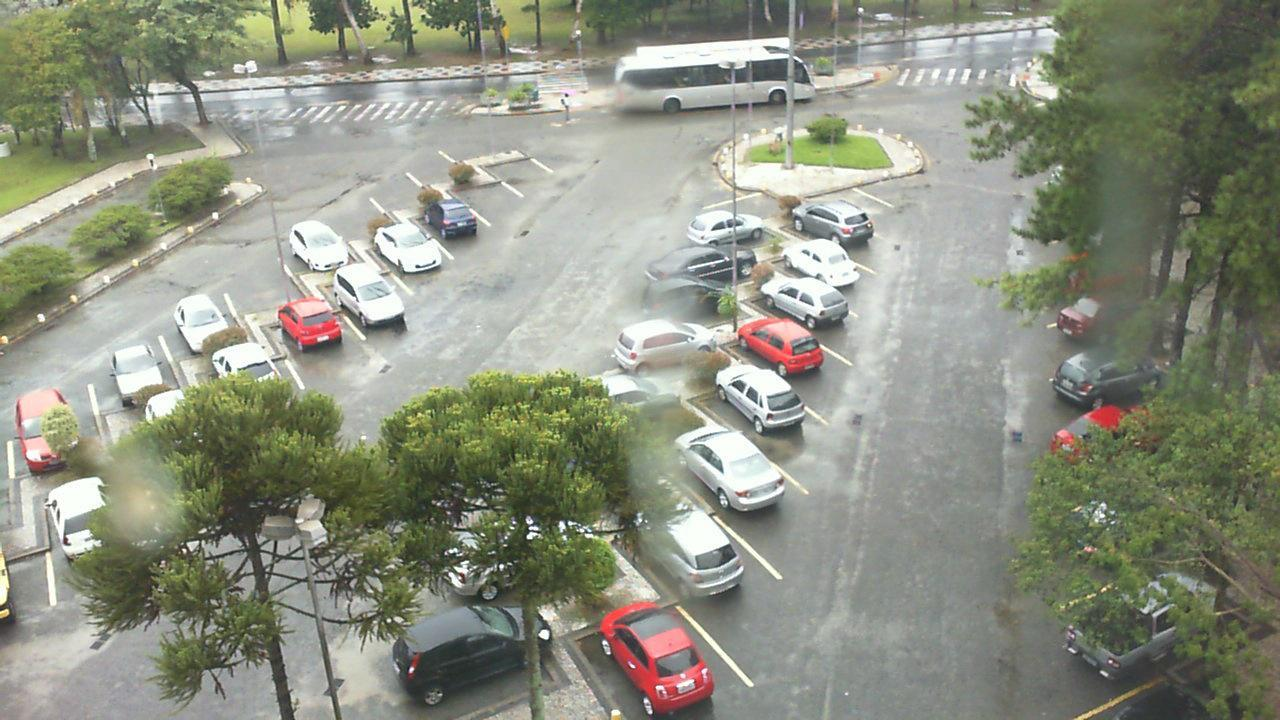empty: (216, 231, 305, 313), (323, 178, 396, 239), (810, 174, 902, 222), (444, 155, 521, 212), (401, 129, 473, 187), (689, 173, 786, 215), (366, 155, 437, 212), (481, 135, 546, 190)
occupied: (377, 590, 563, 711), (577, 570, 726, 708), (629, 505, 782, 629), (666, 427, 799, 540), (701, 367, 824, 458), (714, 313, 833, 390), (85, 313, 177, 408), (150, 264, 248, 352), (582, 320, 707, 388), (747, 266, 859, 334), (262, 291, 353, 374), (633, 270, 742, 327), (637, 236, 750, 288), (768, 227, 869, 285), (323, 250, 402, 324), (362, 214, 445, 283), (275, 209, 358, 275), (789, 198, 886, 249), (683, 204, 784, 250), (413, 189, 491, 246)
